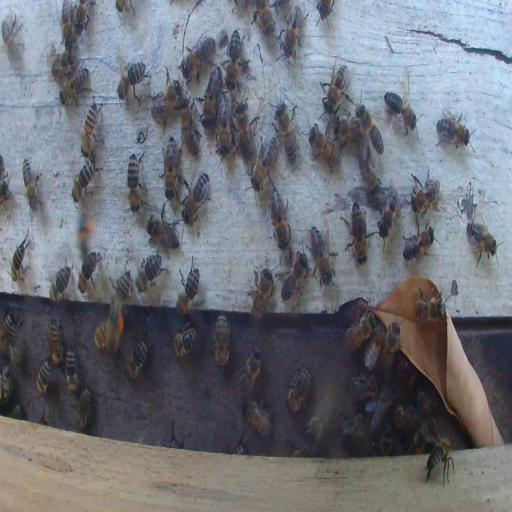nonpollenbee: (384, 74, 421, 138), (320, 56, 352, 114), (309, 226, 338, 288), (341, 200, 369, 264), (180, 33, 214, 84), (466, 215, 502, 263), (150, 72, 180, 128), (248, 261, 274, 325), (273, 100, 299, 163), (146, 206, 181, 252), (434, 109, 473, 150), (280, 6, 306, 64), (308, 123, 340, 170), (176, 259, 201, 319), (410, 170, 441, 218), (116, 58, 149, 103), (182, 170, 210, 223), (425, 437, 455, 485), (251, 137, 278, 189), (281, 252, 307, 305), (356, 105, 383, 155), (366, 385, 394, 432), (71, 157, 98, 204), (80, 100, 102, 157), (244, 398, 273, 440), (403, 224, 435, 262), (286, 368, 312, 414), (234, 106, 256, 160), (2, 14, 24, 68), (238, 346, 262, 395), (59, 67, 89, 106), (1, 306, 24, 356), (22, 157, 42, 214), (77, 250, 101, 297), (360, 148, 380, 204), (271, 191, 290, 249), (48, 261, 72, 306), (126, 152, 144, 212), (162, 136, 178, 202), (378, 188, 398, 240), (226, 29, 244, 85), (126, 338, 149, 381), (181, 107, 201, 155), (213, 314, 231, 367), (11, 233, 29, 286), (346, 315, 374, 349), (338, 410, 366, 444), (202, 67, 218, 125), (392, 403, 421, 434), (138, 253, 164, 286), (364, 329, 384, 371), (171, 327, 197, 359), (75, 385, 93, 431), (350, 373, 380, 400), (335, 113, 361, 144), (48, 51, 74, 81), (252, 4, 276, 34), (384, 321, 400, 366), (48, 319, 63, 366), (370, 428, 394, 456), (36, 357, 53, 395), (0, 363, 14, 407), (60, 3, 74, 47), (65, 347, 78, 393), (415, 299, 442, 321), (416, 282, 442, 304), (316, 0, 334, 30), (73, 2, 90, 32), (160, 424, 181, 448), (94, 319, 108, 350), (8, 336, 22, 365), (291, 440, 316, 456), (231, 435, 249, 455), (11, 402, 24, 417)
pollenbee: (72, 197, 94, 257), (108, 297, 124, 357)
